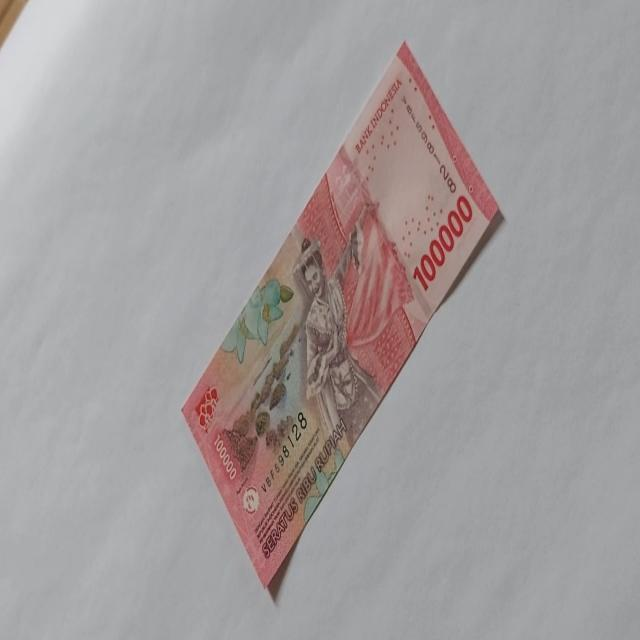seratus ribu rupiah: (180, 39, 501, 589)
